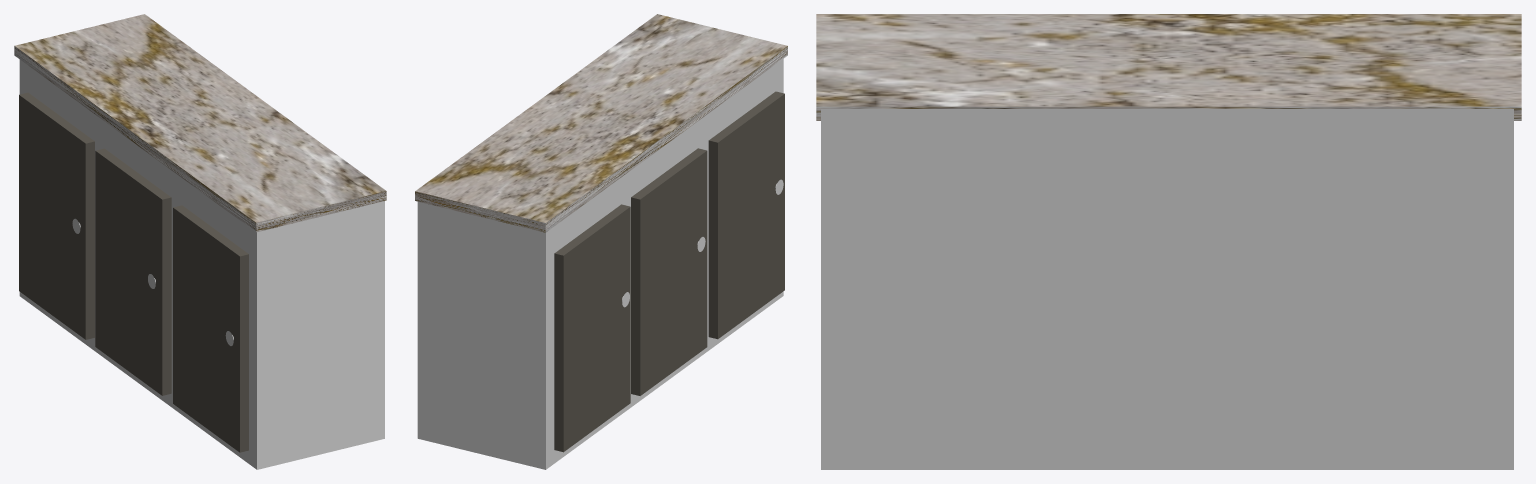
The model's file is Cabinets.fbx.
The picture shows the model from 3 angles, left to right: view 1: azimuth 30°, elevation 25°; view 2: azimuth 150°, elevation 25°; view 3: azimuth 270°, elevation 25°; orthographic projection. The views are drawn at different scales.
Parts seen in each view (by area): view 1: pCube42, pCube43, pCube45, pCube44, pCube46; view 2: pCube42, pCube43, pCube46, pCube44, pCube45; view 3: pCube42, pCube43.
Boxes of the visible parts, box(x1,y1,x2,y2) form: pCube42: box(19, 59, 384, 469); pCube43: box(14, 14, 386, 232); pCube45: box(95, 148, 171, 395); pCube44: box(19, 92, 94, 339); pCube46: box(173, 205, 248, 452); pCube42: box(417, 59, 783, 469); pCube43: box(415, 14, 787, 232); pCube46: box(708, 91, 784, 339); pCube44: box(554, 204, 630, 452); pCube45: box(631, 148, 707, 395); pCube42: box(821, 109, 1513, 469); pCube43: box(816, 14, 1521, 120).
Bounding box in the file's own units: 2.12 × 3.62 × 6.36.
Materials: 3 (1 with a texture image).
